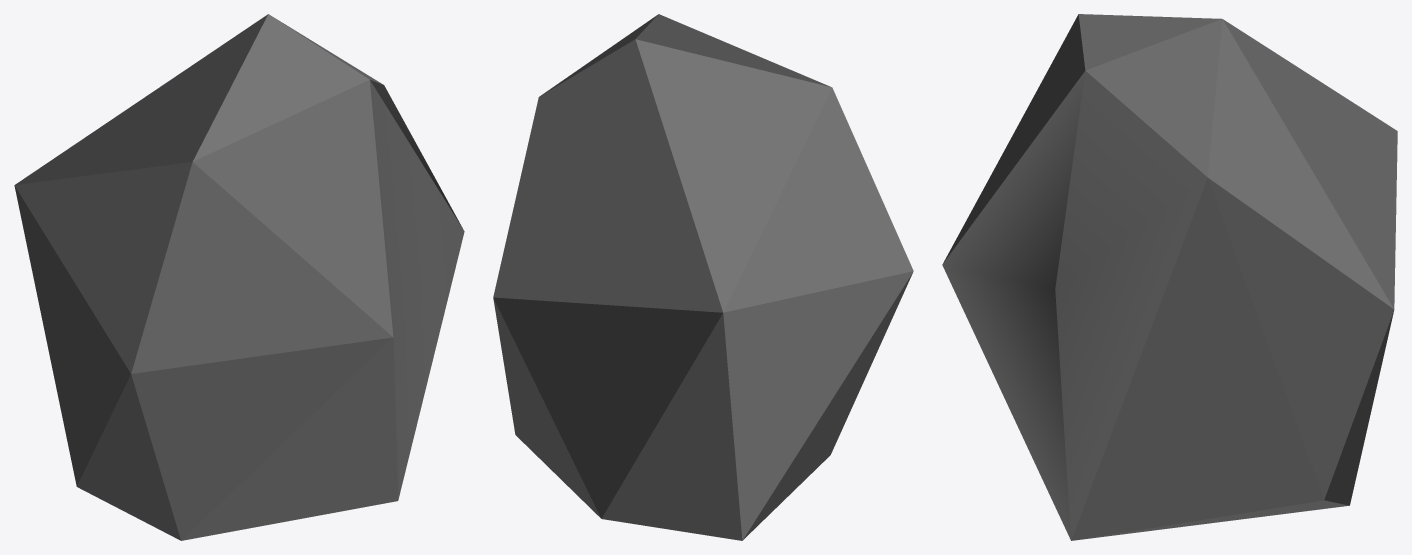
File: SM_Gen_Env_Bush_Part_06.glb
3 views of the same model, side by side, from view 1: azimuth 30°, elevation 25°; view 2: azimuth 150°, elevation 25°; view 3: azimuth 270°, elevation 25° (orthographic). The views are drawn at different scales.
Parts seen in each view (by area): view 1: SM_Gen_Env_Bush_Part_06; view 2: SM_Gen_Env_Bush_Part_06; view 3: SM_Gen_Env_Bush_Part_06.
Boxes of the visible parts, <box> form: SM_Gen_Env_Bush_Part_06: <box>14,14,464,540</box>; SM_Gen_Env_Bush_Part_06: <box>493,14,913,540</box>; SM_Gen_Env_Bush_Part_06: <box>942,14,1397,540</box>.
Size of the model in its own units: 0.7523 by 0.9967 by 0.8146.
1 material, 1 textured.
